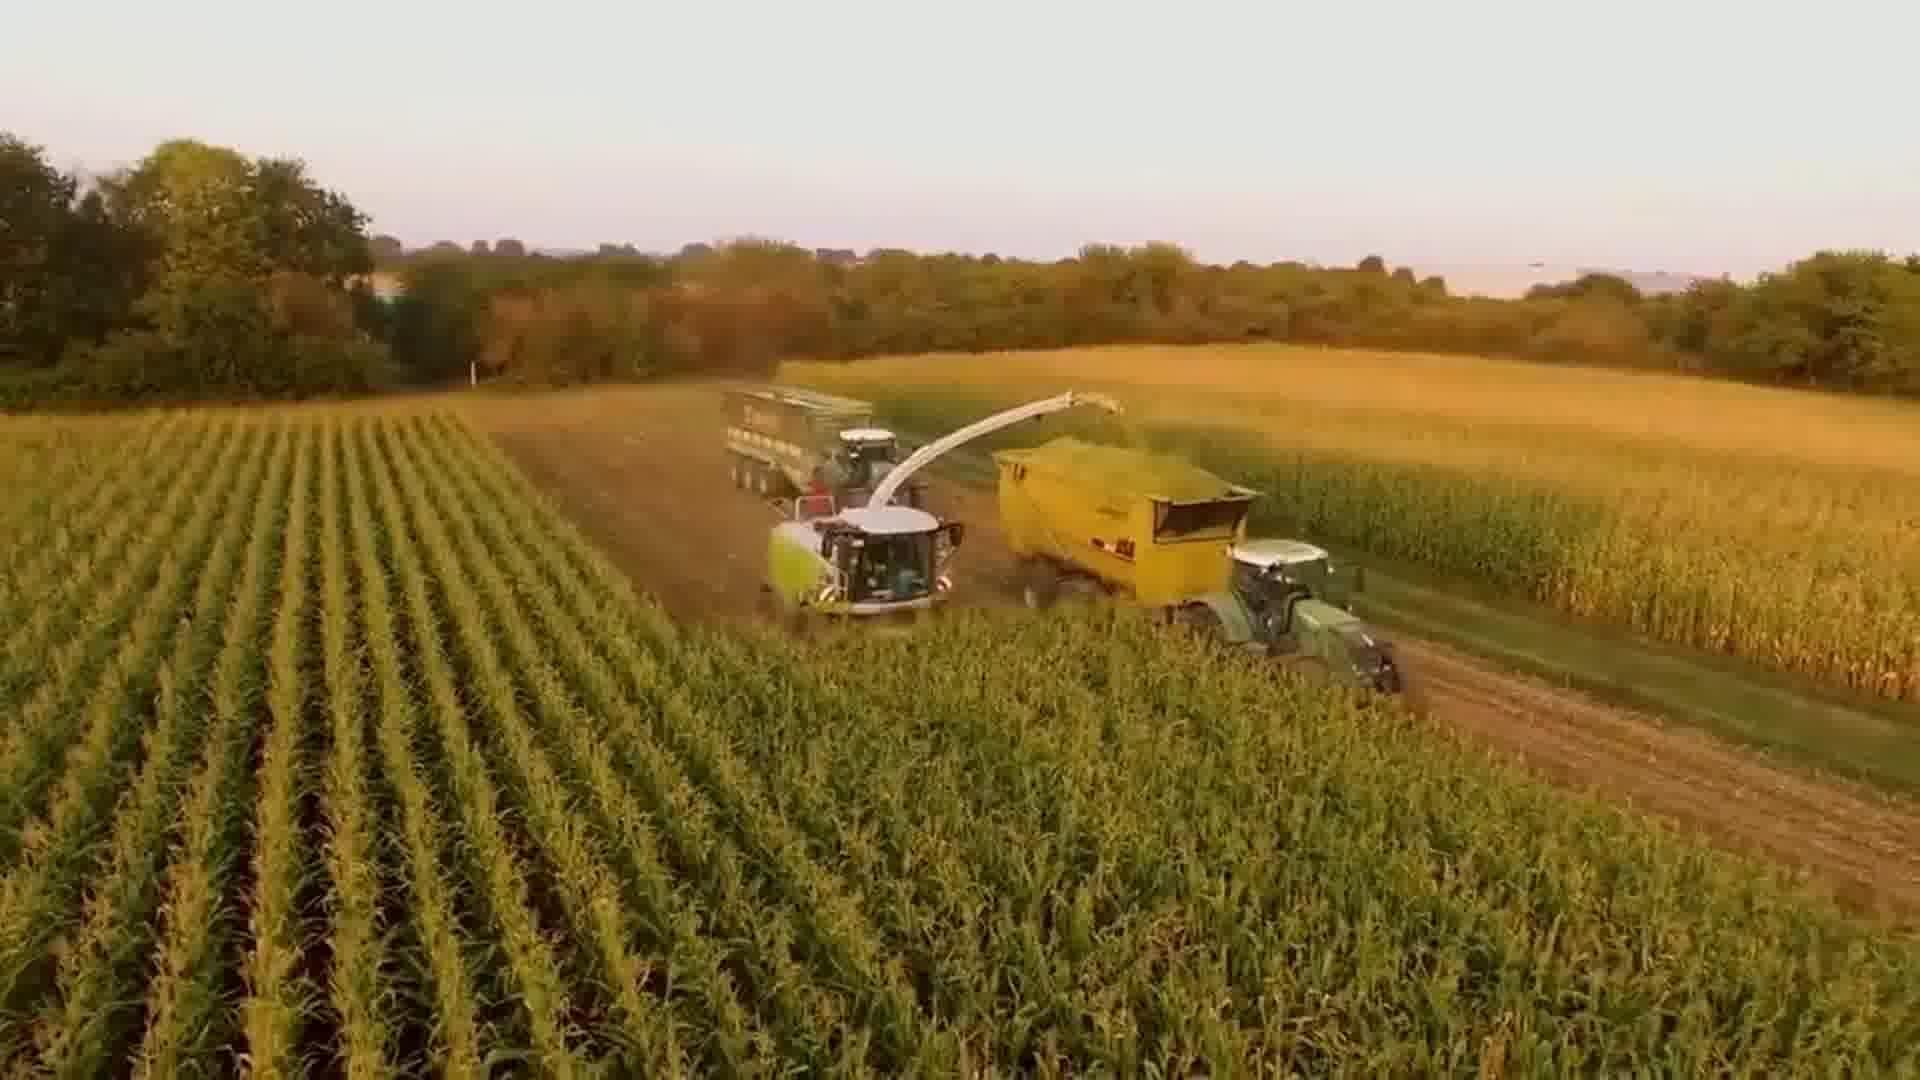combine harvester: (752, 386, 1079, 644)
tractor: (1170, 531, 1418, 717), (811, 423, 927, 510)
trailer: (985, 434, 1266, 630), (715, 375, 878, 513)
